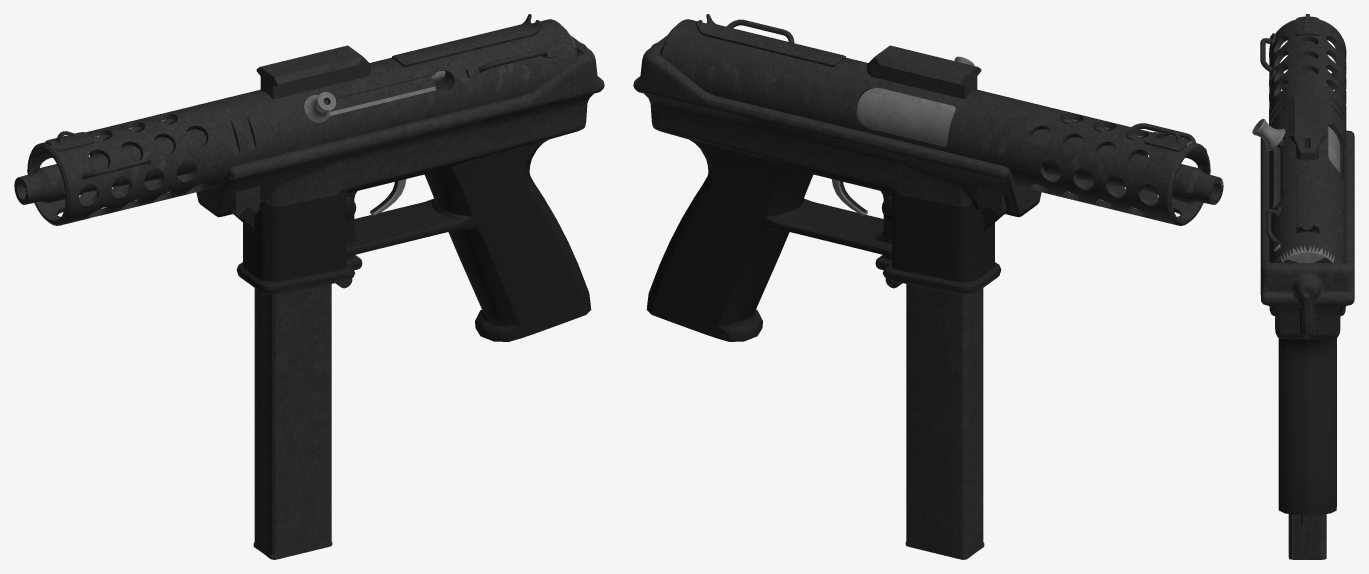
Rendered from tec9.glb.
3 renders of one model, left to right at view 1: azimuth 30°, elevation 25°; view 2: azimuth 150°, elevation 25°; view 3: azimuth 270°, elevation 25°, orthographic. The views are drawn at different scales.
Parts seen in each view (by area): view 1: tec9; view 2: tec9; view 3: tec9.
Part boxes in pixels (x1,y1,x2,y2): tec9: [14, 14, 604, 559]; tec9: [633, 14, 1223, 559]; tec9: [1252, 14, 1354, 559].
Size of the model in its own units: 0.31 by 0.2517 by 0.0532.
Materials: 3 (3 with a texture image).
